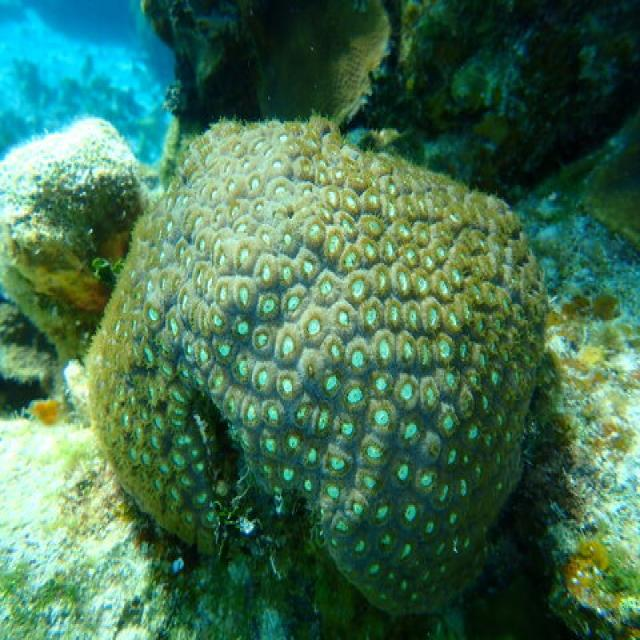Coral: (84, 116, 542, 614), (0, 115, 149, 365), (246, 0, 391, 130)
